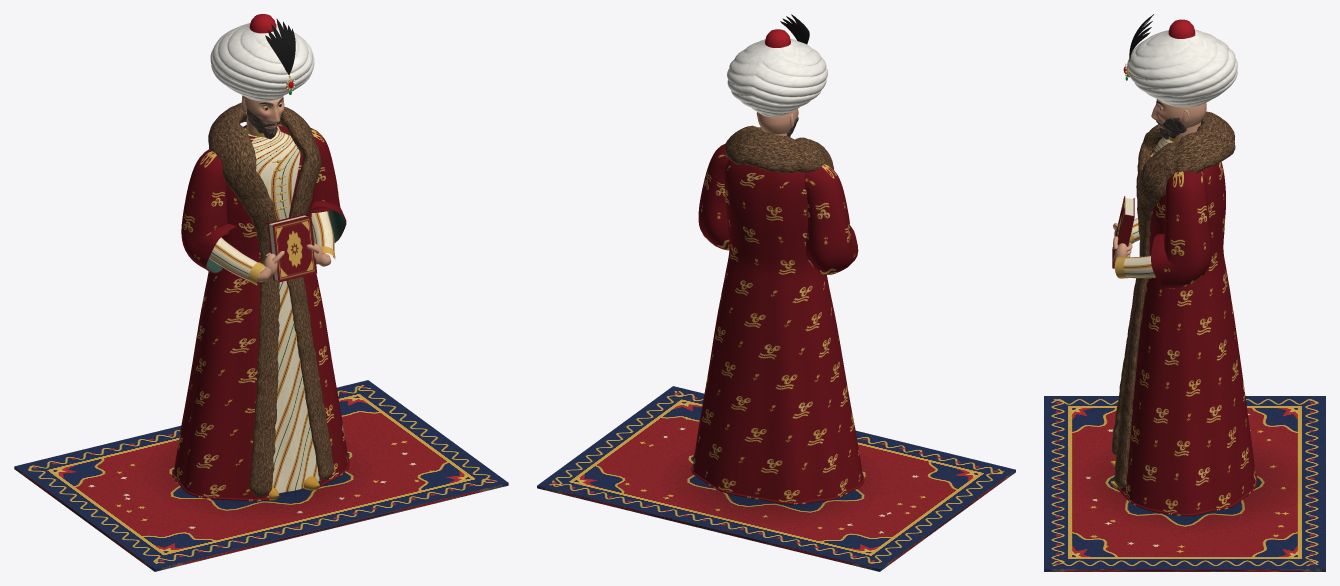
Rendered from kanuni.glb.
3 renders of one model, left to right at view 1: azimuth 30°, elevation 25°; view 2: azimuth 150°, elevation 25°; view 3: azimuth 270°, elevation 25°, orthographic. The views are drawn at different scales.
Parts seen in each view (by area): view 1: Usak_Hali, Kaftan_Govde, Samur_Yaka, Entari_Govde, Kaftan_Kol (×2), Tulbent, On_Kapak, Entari_Kol (×2), Yuz; view 2: Kaftan_Govde, Usak_Hali, Kaftan_Kol (×2), Tulbent, Samur_Yaka, Yuz; view 3: Usak_Hali, Kaftan_Govde, Samur_Yaka, Tulbent, Kaftan_Kol, Yuz, Entari_Kol, Kaftan_Etek, Taj, Sakal, Sirt.
Boxes of the visible parts, box(x1,y1,x2,y2) form: Usak_Hali: box(14, 380, 508, 571); Kaftan_Govde: box(173, 124, 348, 498); Samur_Yaka: box(208, 103, 334, 499); Entari_Govde: box(244, 126, 320, 493); Kaftan_Kol (×2): box(181, 127, 346, 273); Tulbent: box(210, 23, 314, 101); On_Kapak: box(272, 215, 316, 282); Entari_Kol (×2): box(209, 211, 334, 284); Yuz: box(242, 95, 284, 128); Kaftan_Govde: box(692, 159, 863, 502); Usak_Hali: box(537, 386, 1015, 571); Kaftan_Kol (×2): box(698, 144, 858, 274); Tulbent: box(727, 38, 827, 117); Samur_Yaka: box(724, 125, 833, 172); Yuz: box(757, 109, 798, 134); Usak_Hali: box(1044, 396, 1325, 571); Kaftan_Govde: box(1121, 144, 1256, 513); Samur_Yaka: box(1112, 111, 1235, 490); Tulbent: box(1127, 29, 1237, 107); Kaftan_Kol: box(1151, 171, 1211, 289); Yuz: box(1151, 99, 1206, 129); Entari_Kol: box(1123, 255, 1155, 278); Kaftan_Etek: box(1117, 472, 1257, 516); Taj: box(1168, 19, 1195, 38); Sakal: box(1160, 117, 1186, 139); Sirt: box(1112, 214, 1134, 268).
Size of the model in its own units: 0.16 by 0.2031 by 0.11.
Materials: 22 (8 with a texture image).
